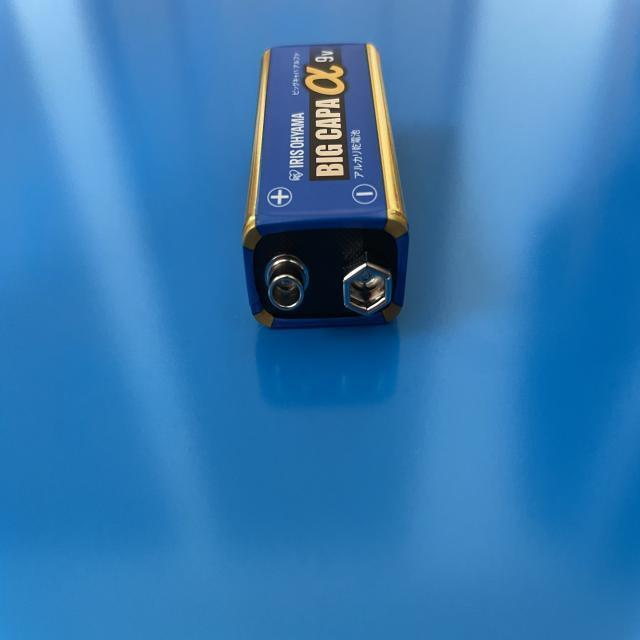9V: (243, 46, 408, 333)
